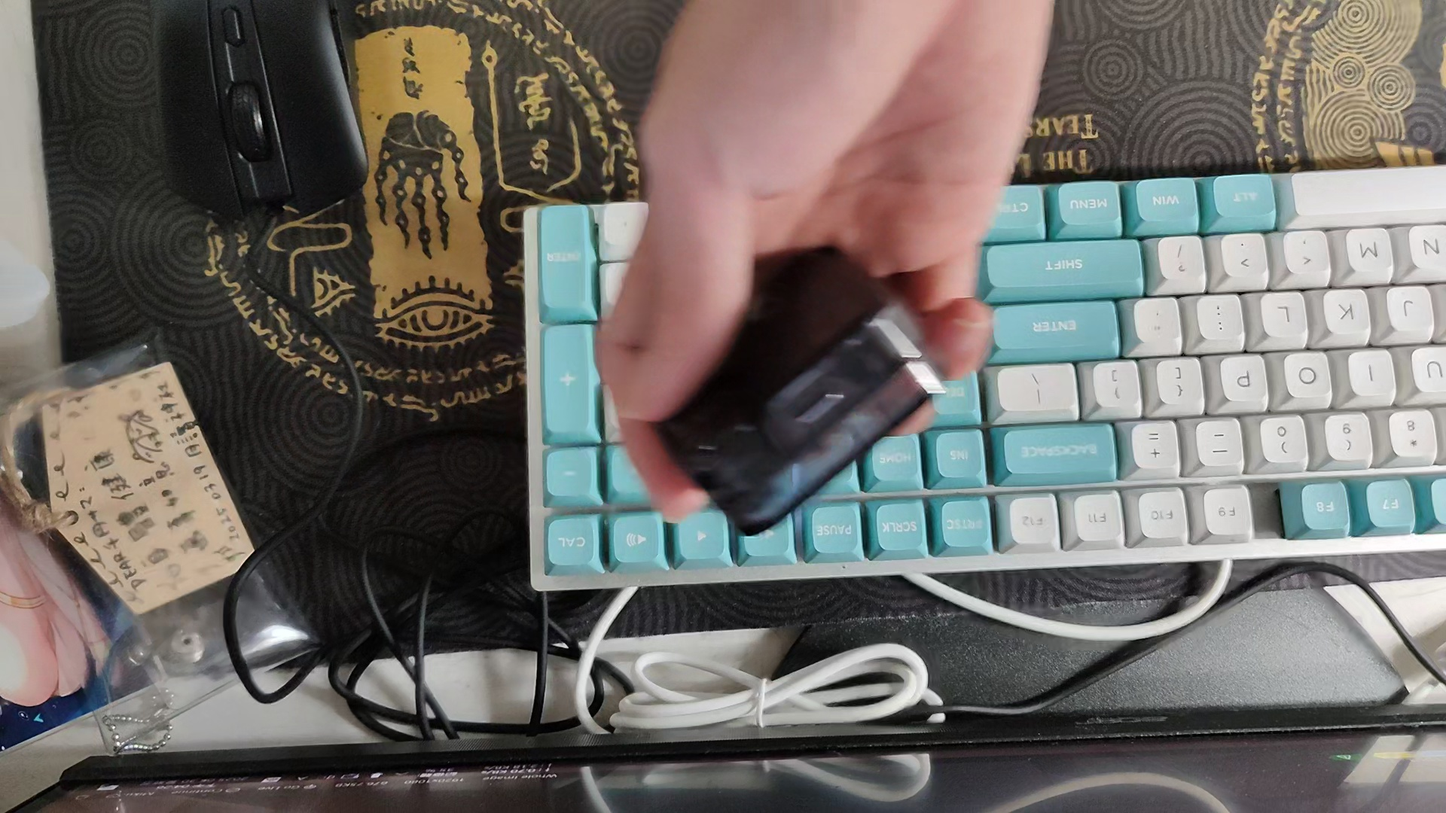Wireless_earphone: (653, 241, 947, 540)
